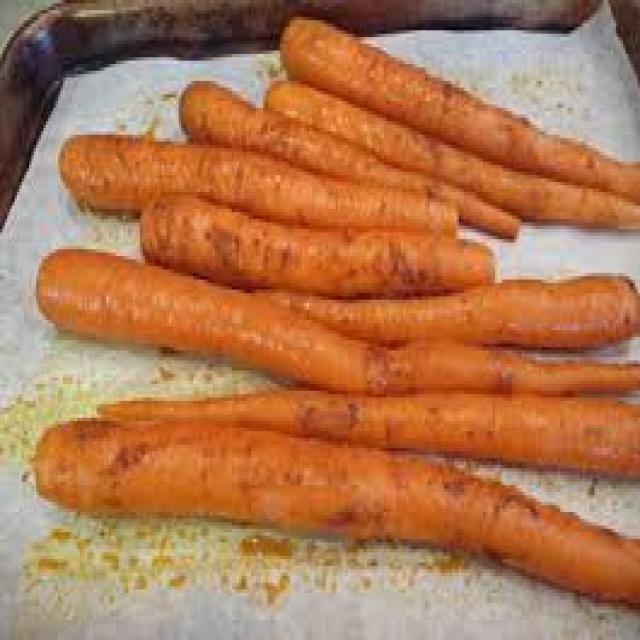Pomogrenate: (35, 418, 640, 604)
Stale_Carrot: (140, 195, 495, 297)
